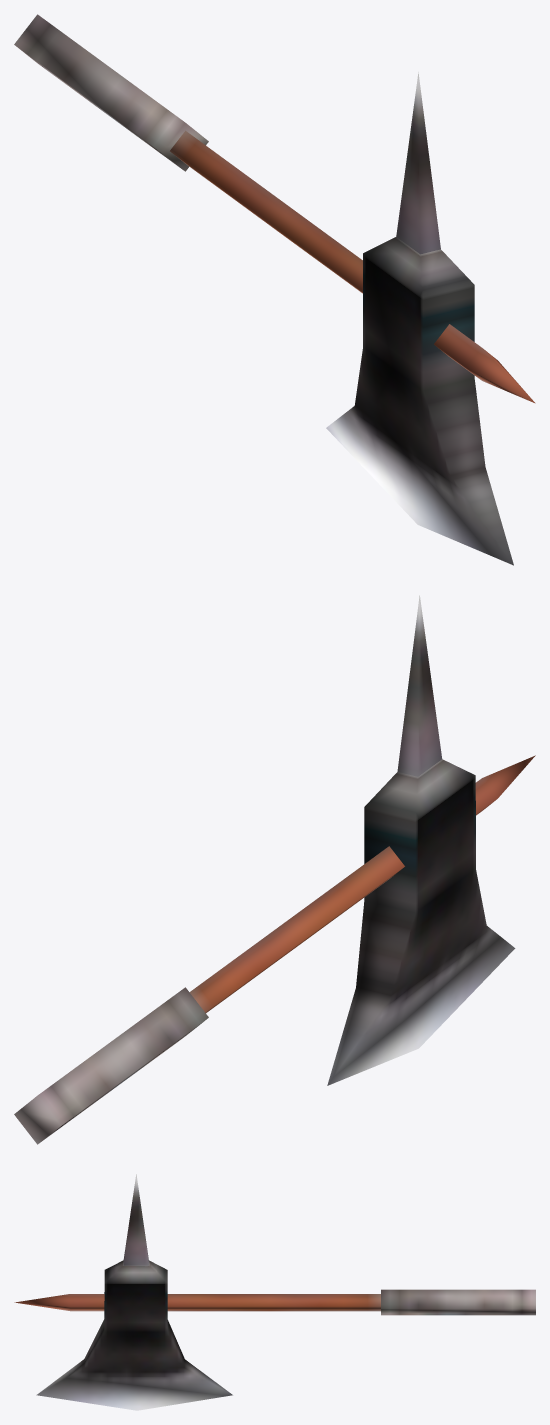
The model's file is shoufu.FBX.
The picture shows the model from 3 angles, top to bottom: view 1: azimuth 30°, elevation 25°; view 2: azimuth 150°, elevation 25°; view 3: azimuth 270°, elevation 25°; orthographic projection. The views are drawn at different scales.
Visible parts, largest first — view 1: Axe02; view 2: Axe02; view 3: Axe02.
Boxes of the visible parts, left/top/right/bottom form: Axe02: left=14, top=14, right=535, bottom=565; Axe02: left=14, top=595, right=535, bottom=1144; Axe02: left=14, top=1174, right=535, bottom=1410.
Size of the model in its own units: 17.08 by 144 by 287.
